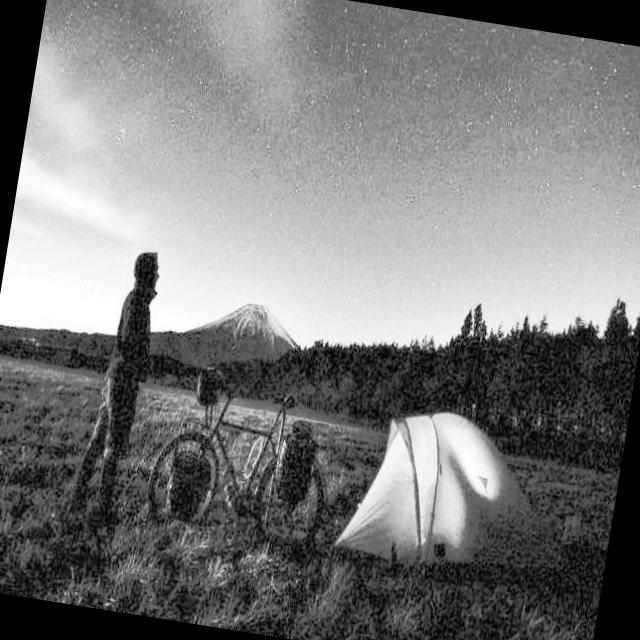Bicycle: (139, 328, 349, 563)
Person: (44, 244, 174, 574)
